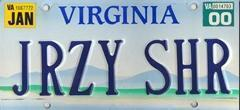placa de veiculo: (4, 1, 238, 110)
